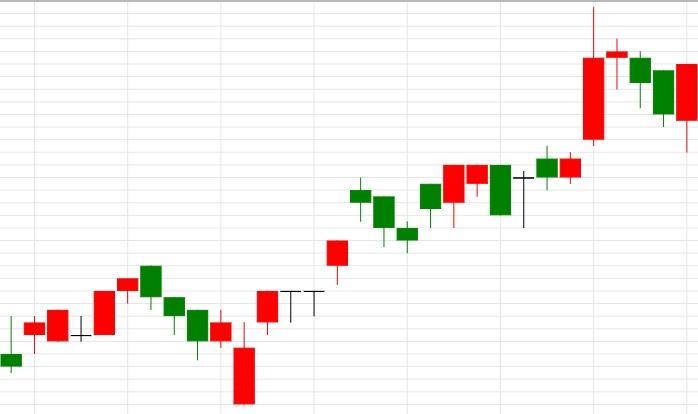bearish_engulfing_fall: (0, 265, 163, 373), (396, 164, 512, 253)
bullish_engulfing_rise: (606, 39, 698, 153)
evening_star_fall: (396, 7, 652, 253)
